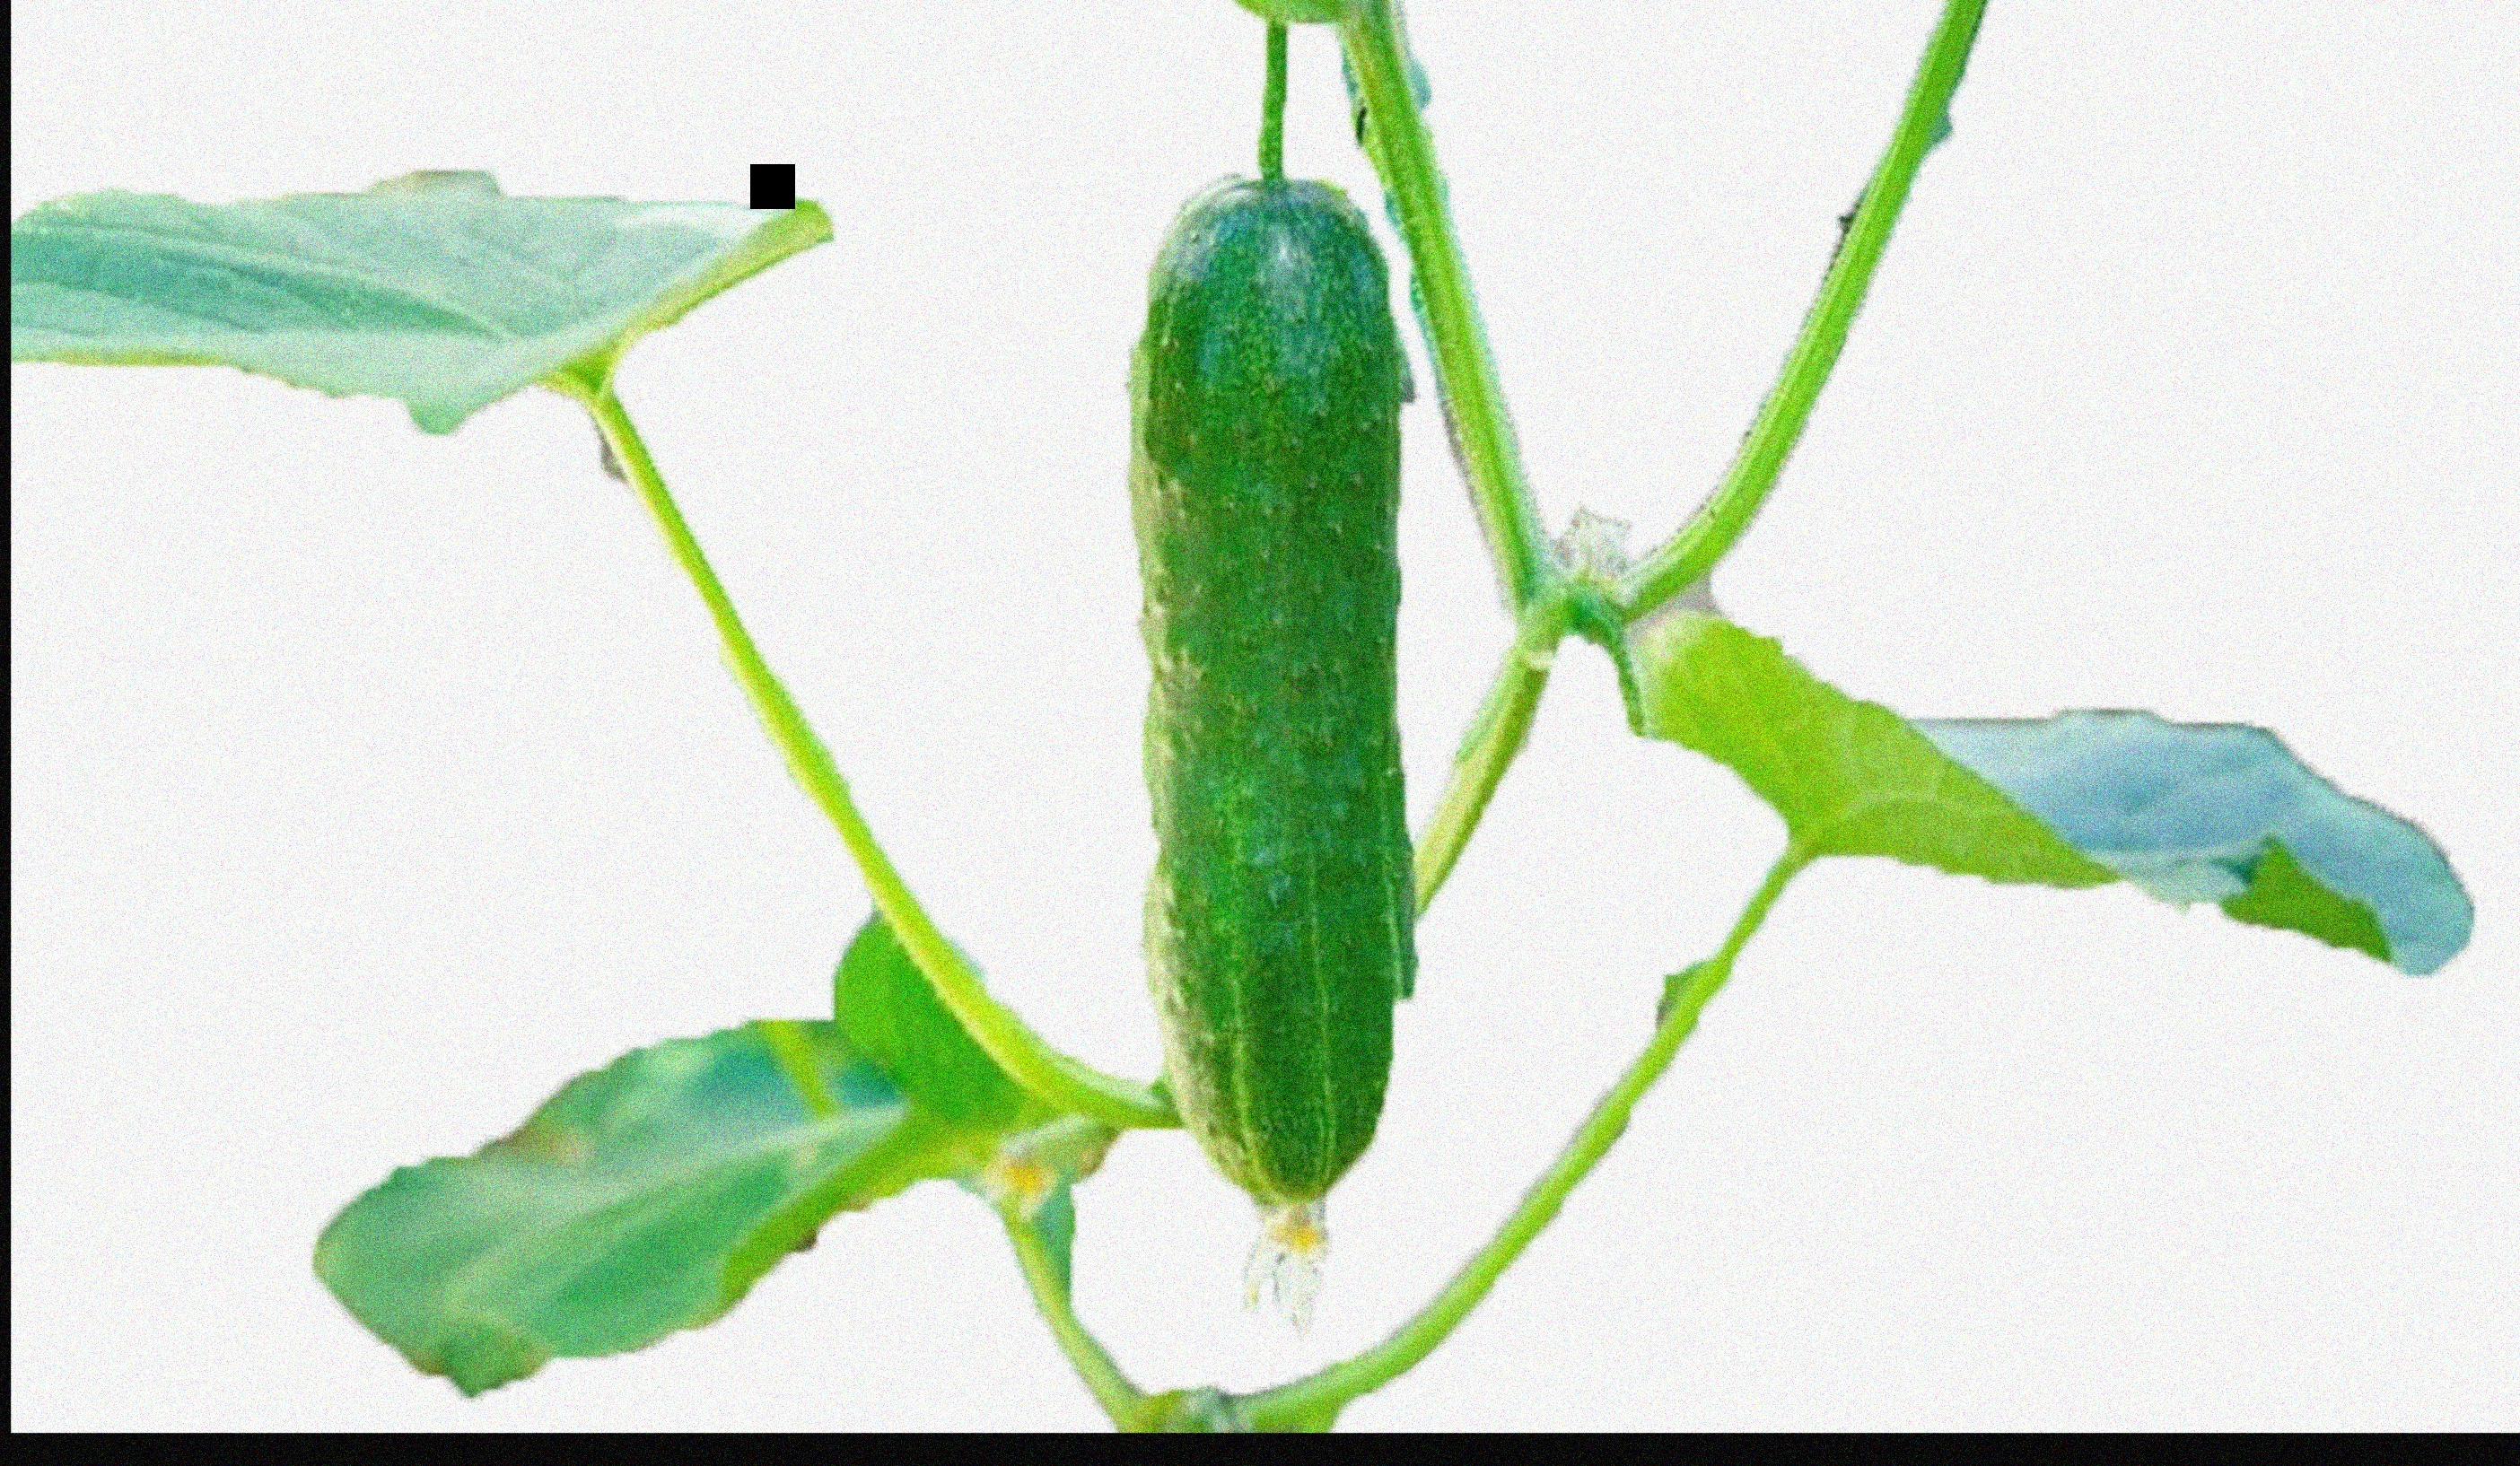corn_plant: (23, 168, 1117, 1429)
cucumber: (1113, 103, 1429, 1237)
cucumber_plant: (1454, 623, 2482, 1375)
